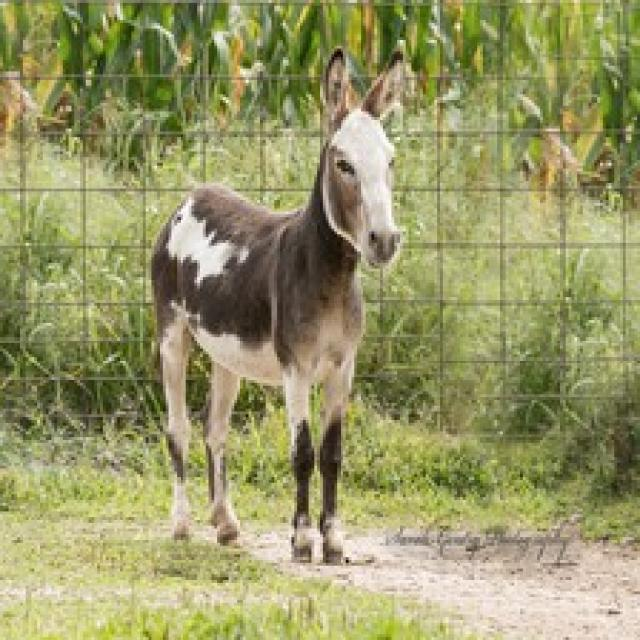Donkey: (130, 40, 447, 573)
